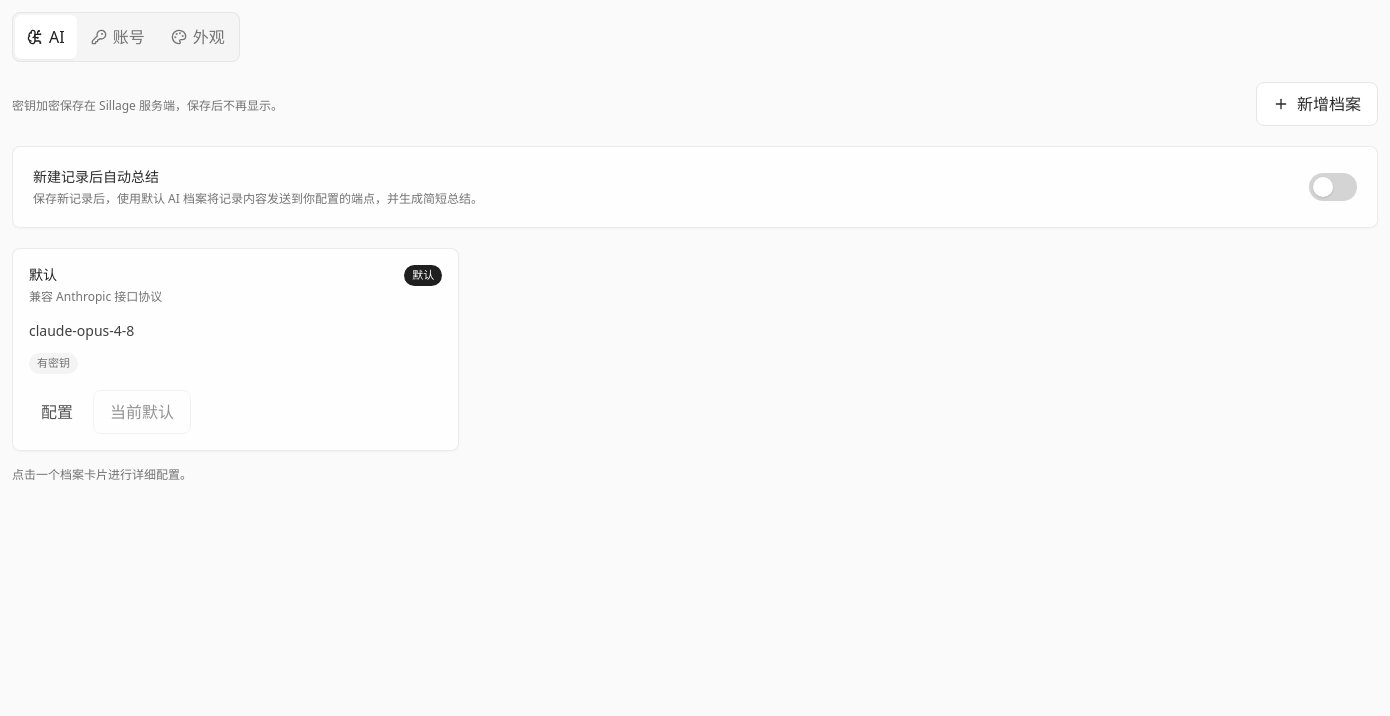
Test case: SettingsWorkspace › keeps the save bar available after switching to appearance
The width and height of the screenshot is (1390, 716).
Click the button "配置" at (57, 412), box [29,390,85,434]
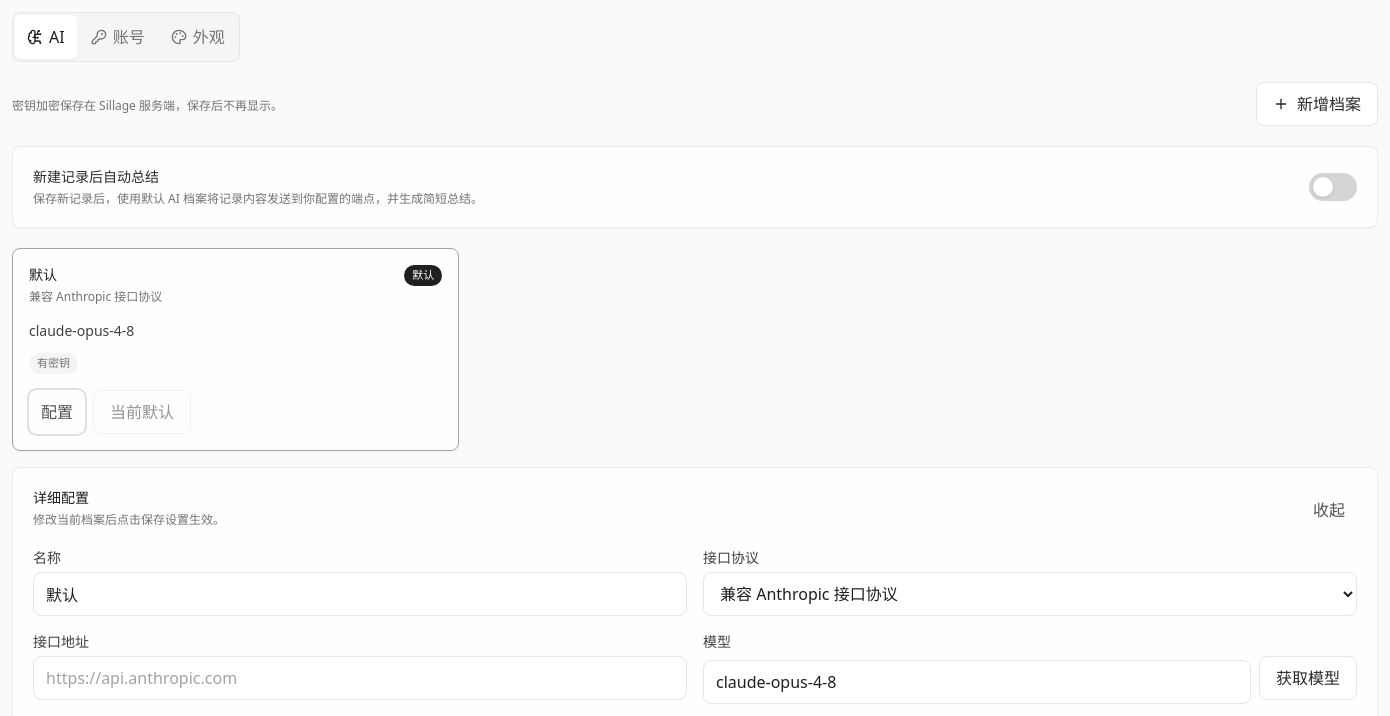
Replace the text in the field showing "默认" with "跨标签保存" at (360, 594), box [33,572,687,616]
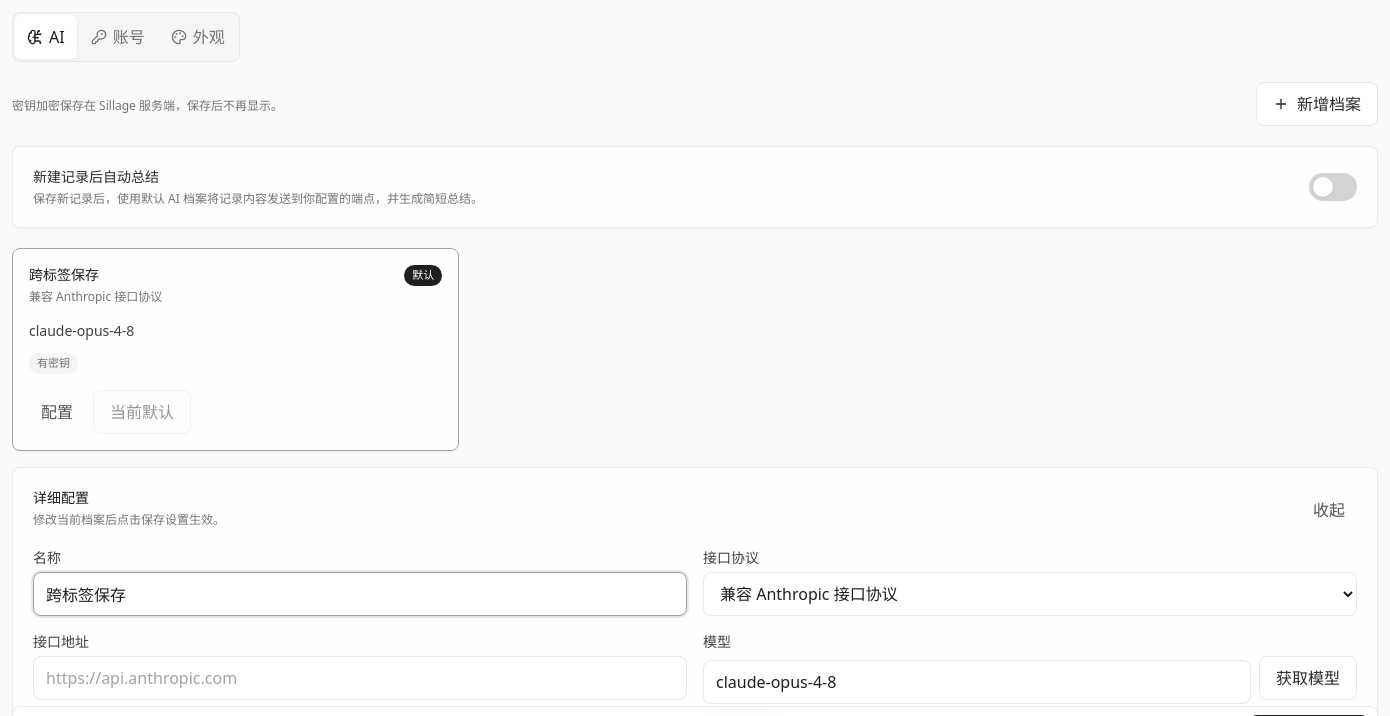
Click the button "外观" at (198, 37), box [159,15,237,59]
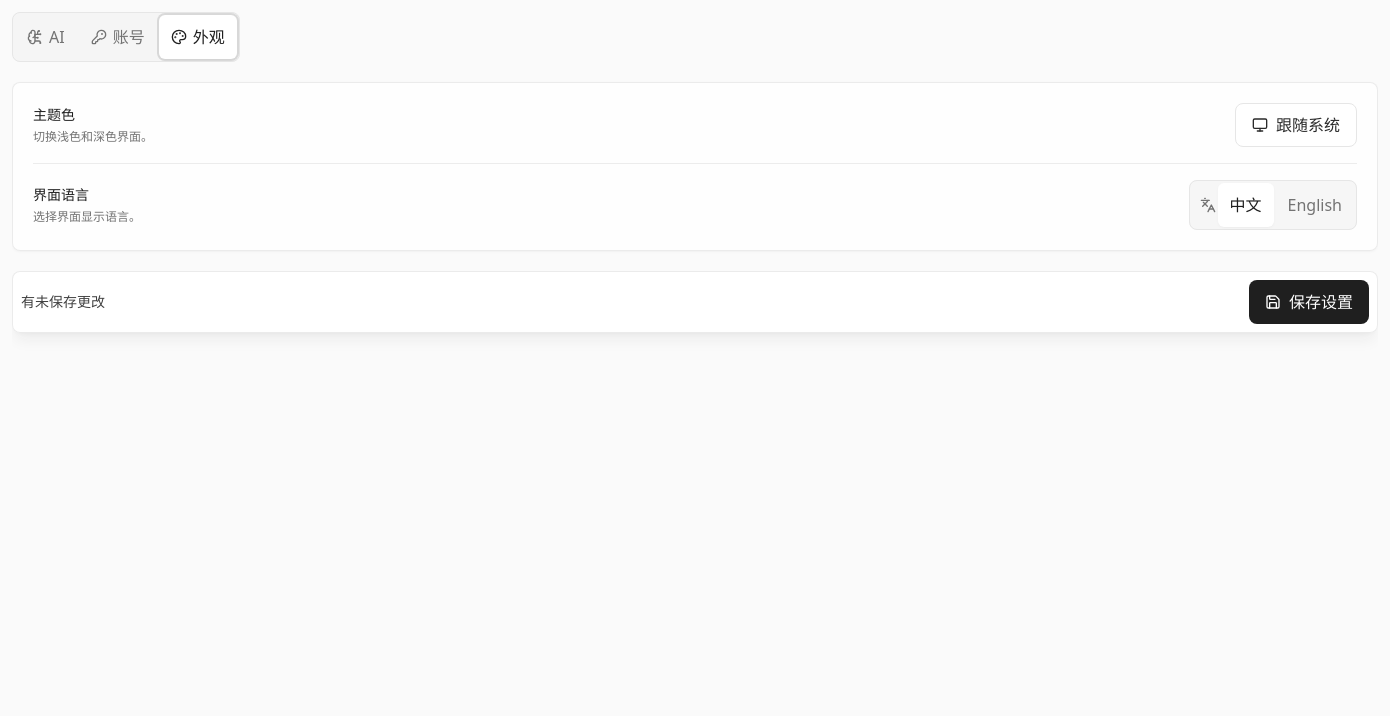
Expected: the text "有未保存更改" is shown, [21,292,105,312]
Expected: the heading "主题色" is shown, [33,105,75,124]
Click the button "保存设置" at (1309, 302), box [1249,280,1369,324]
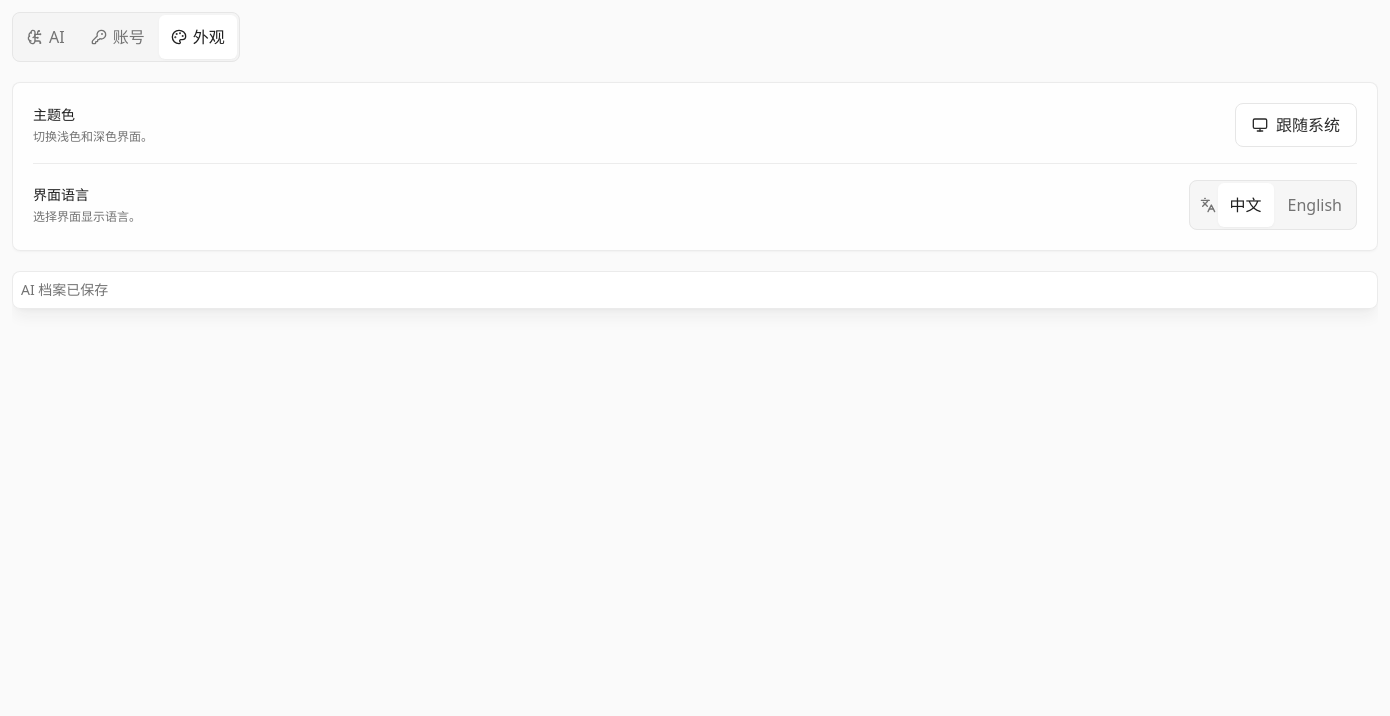
Expected: the heading "主题色" is shown, [33,105,75,124]
Expected: the text "AI 档案已保存" is shown, [21,280,108,300]
